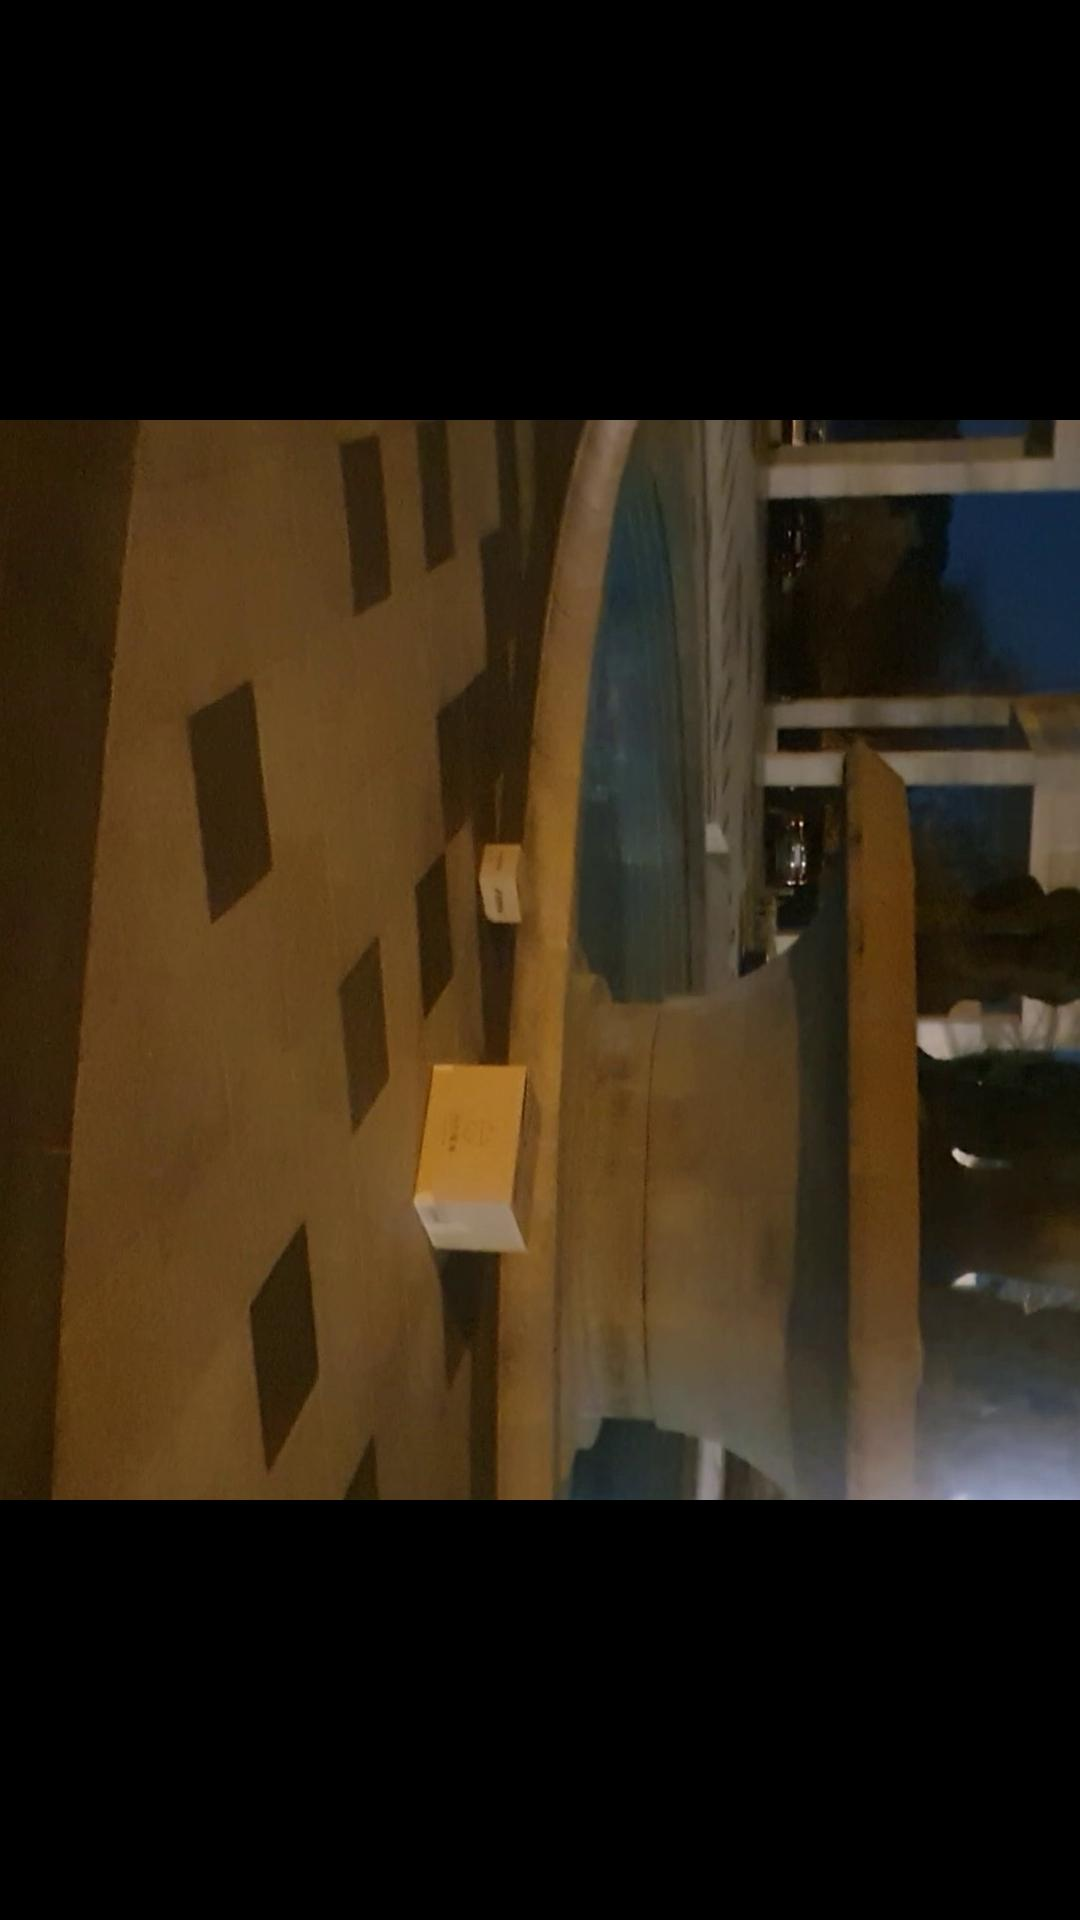Box: (390, 1058, 547, 1251), (467, 823, 537, 935)
